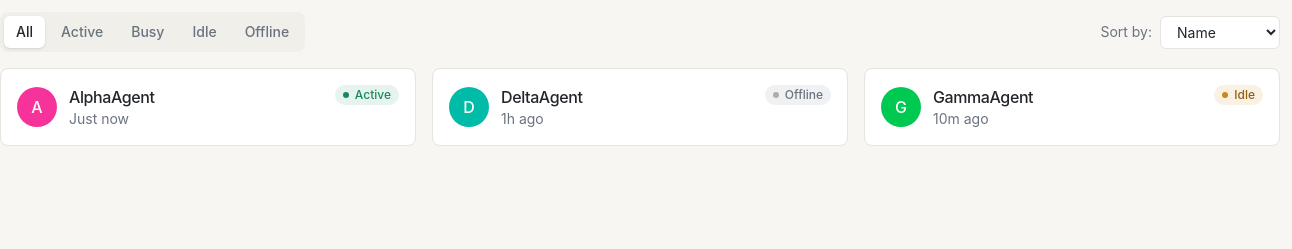
Test: AgentCardGrid › shows empty state when filter has no matches
Click the button "Busy".
click(148, 32)  # box x1=119 y1=16 x2=176 y2=48
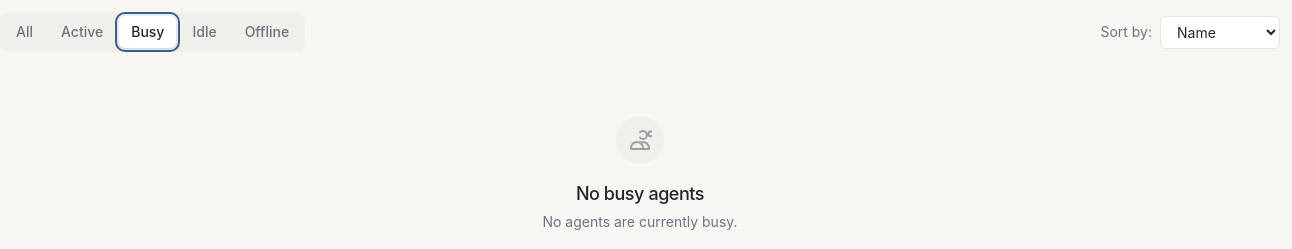
Expected: the heading "No busy agents" is shown, x1=576 y1=180 x2=704 y2=208
Expected: the text "No agents are currently busy." is shown, x1=542 y1=212 x2=738 y2=232
